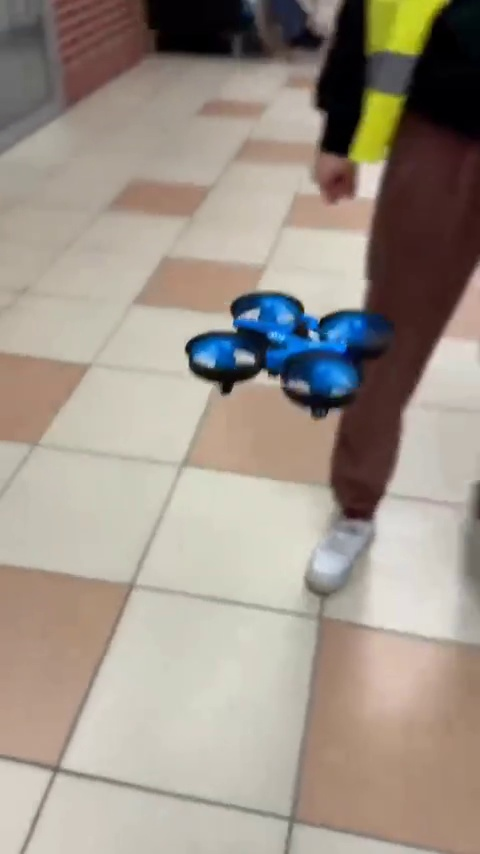drone: (185, 286, 393, 411)
